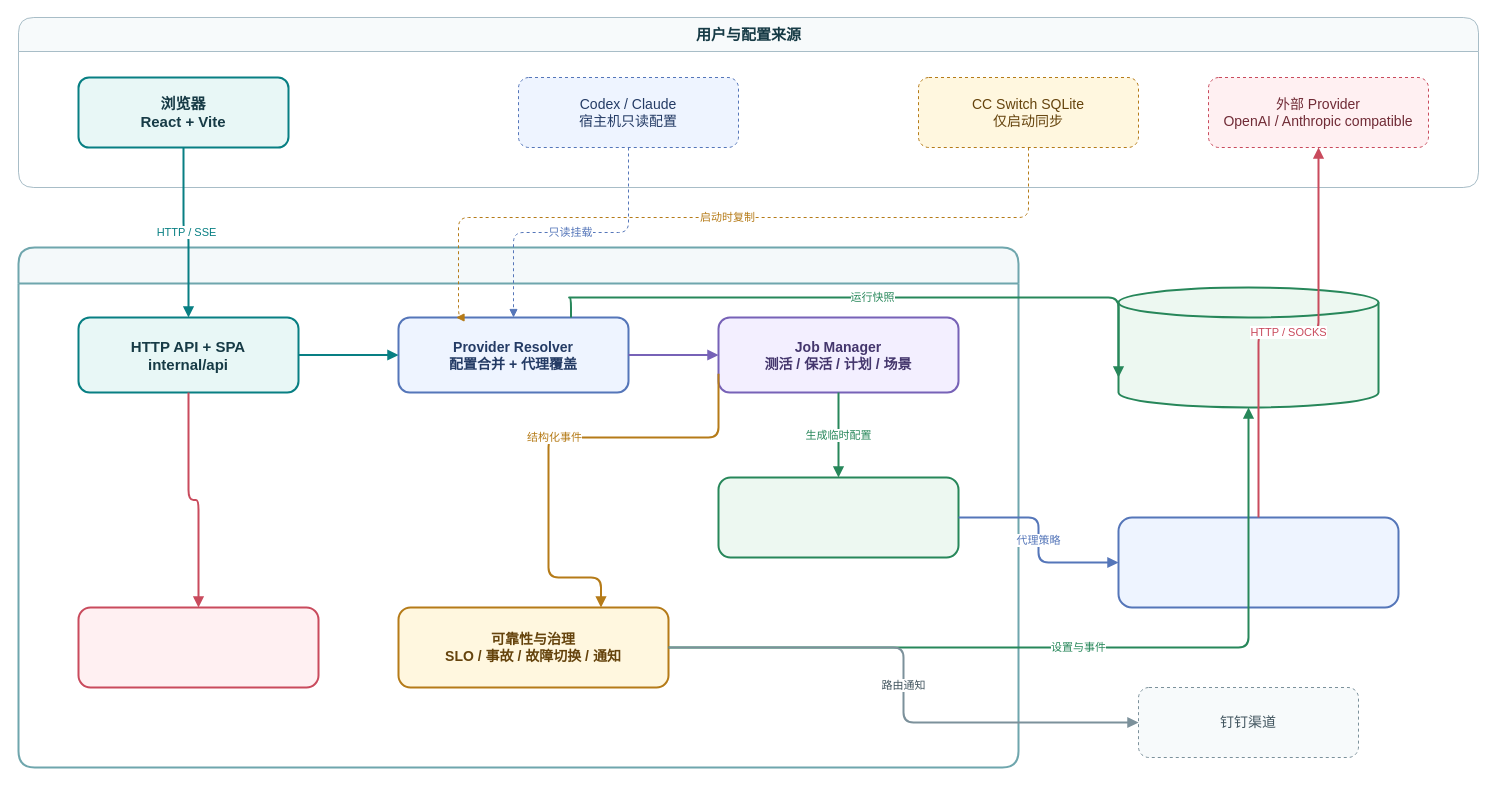
The diagram is 1496 pixels wide and 786 high, and some of its shapes have lost their labels. The shapes that lost their labels are listed below. From the top down, each one's box as (x1, y1, x2, y2) in pixels, then its label:
(1117, 286, 1379, 408): Redis 7 设置、快照、事件、密文
(17, 246, 1019, 768): AI Watch 应用容器
(717, 476, 959, 558): 隔离 CLI Job /run/ai-watch tmpfs
(1117, 516, 1399, 608): Mihomo Sidecar 私有代理出口 + 订阅热重载
(77, 606, 319, 688): 安全配置服务 AES-GCM / 脱敏 / 幂等
